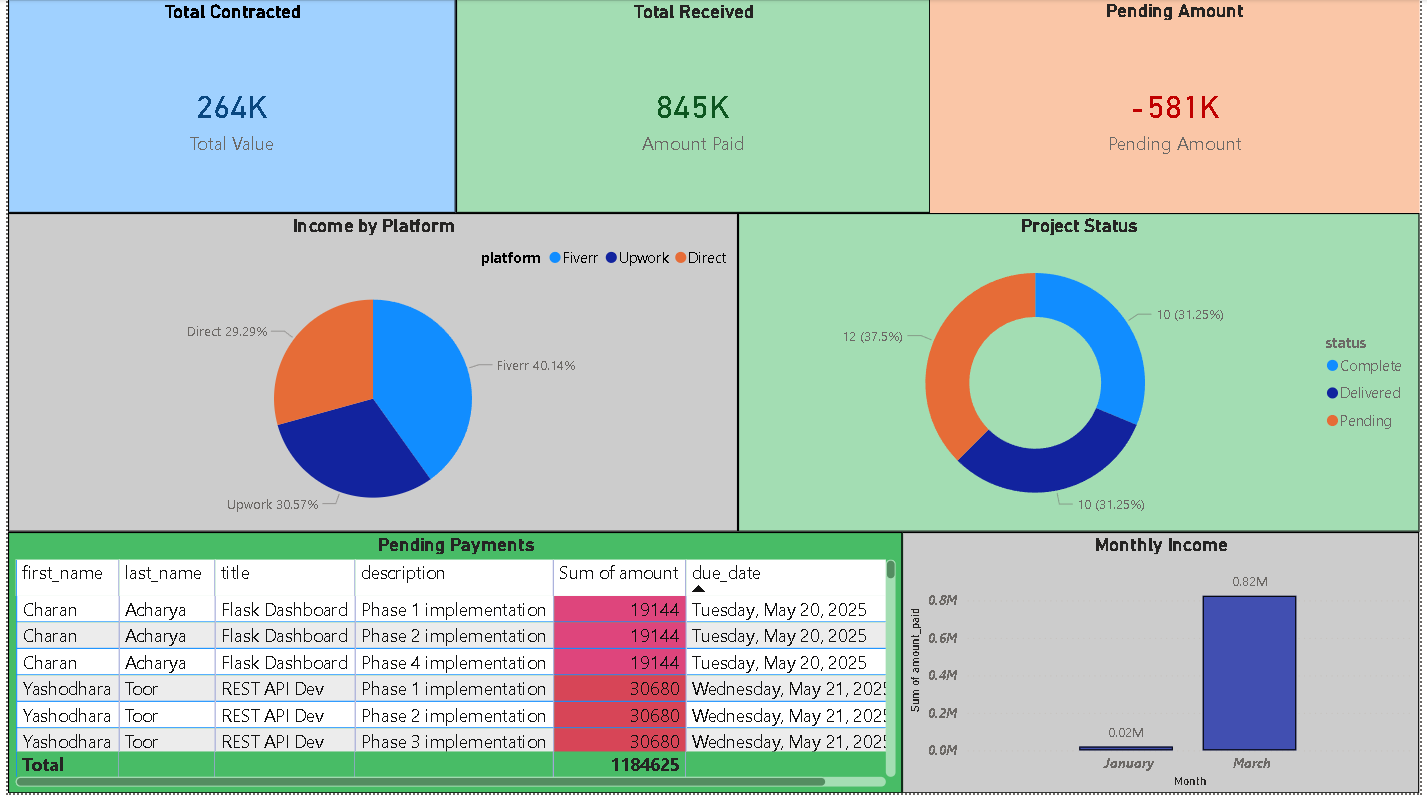

What the dashboard file says about the page in this screenshot:
{"tool":"powerbi","page":{"name":"Page 1","canvas":[1280,720],"ordinal":0},"visuals":[{"type":"columnChart","title":"Monthly Income","fields":{"Category":["public payment.date_paid.Variation.Date Hierarchy.Year","public payment.date_paid.Variation.Date Hierarchy.Quarter","public payment.date_paid.Variation.Date Hierarchy.Month","public payment.date_paid.Variation.Date Hierarchy.Day"],"Y":["Sum(public payment.amount_paid)"]},"box":[811,483,469,237],"z":0},{"type":"pieChart","title":"Income by Platform","fields":{"Category":["public client.platform"],"Y":["Sum(public payment.amount_paid)"]},"box":[0,194,662,289],"z":1000},{"type":"donutChart","title":"Project Status","fields":{"Y":["CountNonNull(public project.Pid)"],"Series":["public project.status"]},"box":[662,194,618,289],"z":2000},{"type":"tableEx","title":"Pending Payments","fields":{"Values":["public client.first_name","public client.last_name","public project.title","public milestone.description","Sum(public milestone.amount)","public milestone.due_date"]},"box":[0,483,811,237],"z":3000},{"type":"card","title":"Total Contracted ","fields":{"Values":["Sum(public project.total_value)"]},"box":[0,0,406,194],"z":4000},{"type":"card","title":"Total Received","fields":{"Values":["Sum(public payment.amount_paid)"]},"box":[406,0,430,194],"z":5000},{"type":"card","title":"Pending Amount","fields":{"Values":["public client.Pending Amount"]},"box":[836,0,444,194],"z":6000}]}

Visuals, with their boxes in screenshot pixels (x1, y1, x2, y2), scaled from the page's 1280x720 canvas onto the 1427x799 screenshot:
"Monthly Income" columnChart: 904/536/1426/798
"Income by Platform" pieChart: 0/215/738/536
"Project Status" donutChart: 738/215/1426/536
"Pending Payments" tableEx: 0/536/904/798
"Total Contracted " card: 0/0/453/215
"Total Received" card: 453/0/932/215
"Pending Amount" card: 932/0/1426/215
